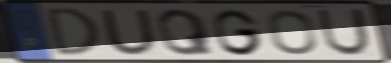D: (45, 7, 103, 58)
G: (211, 8, 265, 57)
O: (265, 9, 319, 56)
Q: (155, 8, 218, 57)
U: (98, 8, 161, 57), (315, 8, 373, 57)
